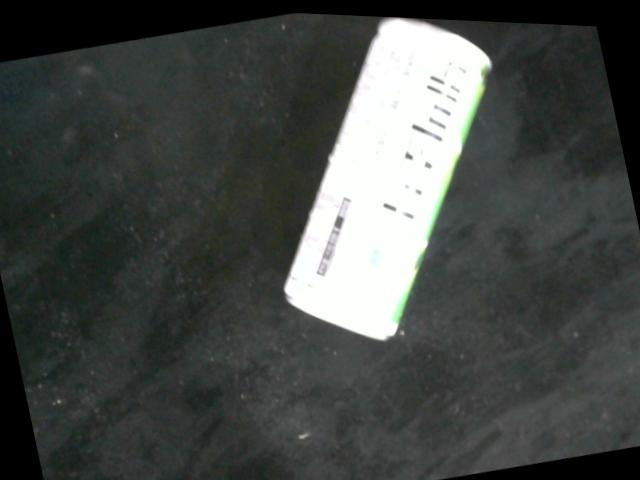can: (281, 14, 493, 340)
